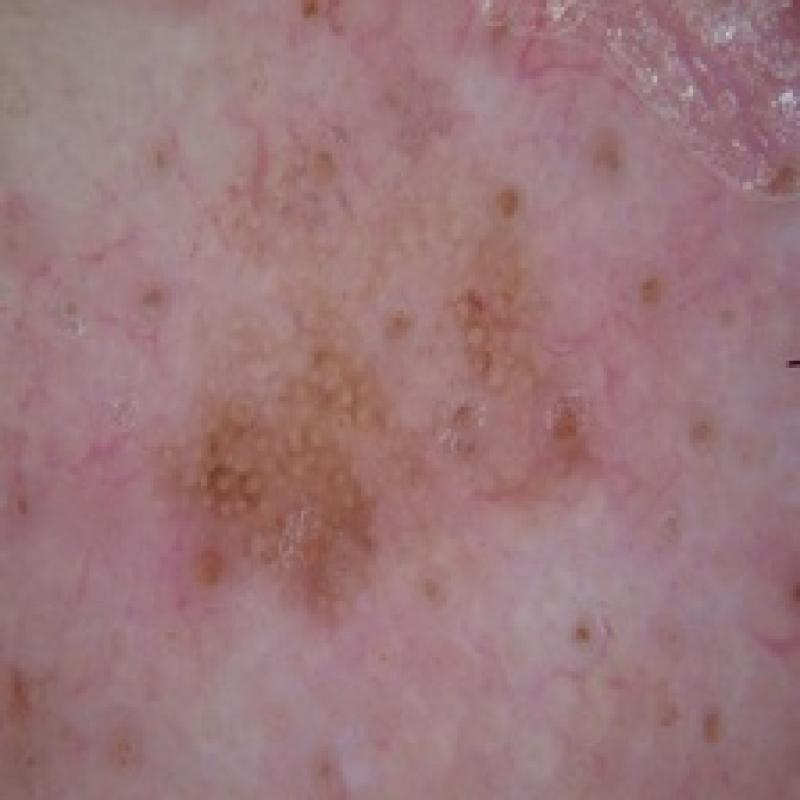malignant: (64, 46, 665, 657)
